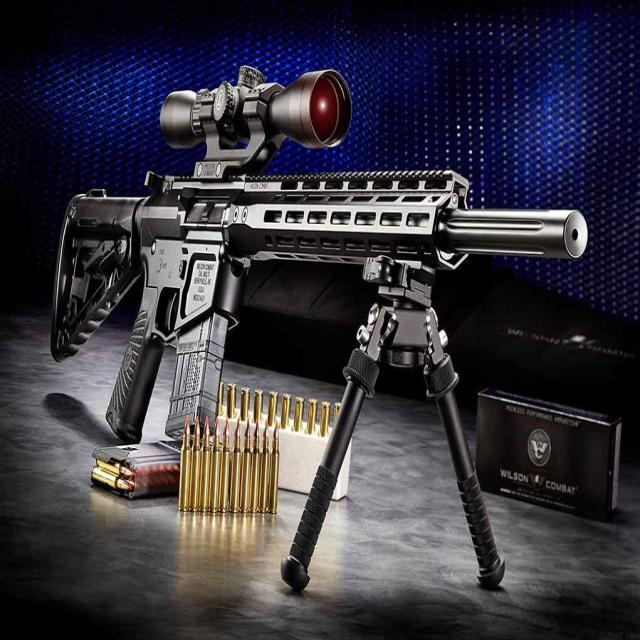Rifle: (50, 68, 590, 446)
